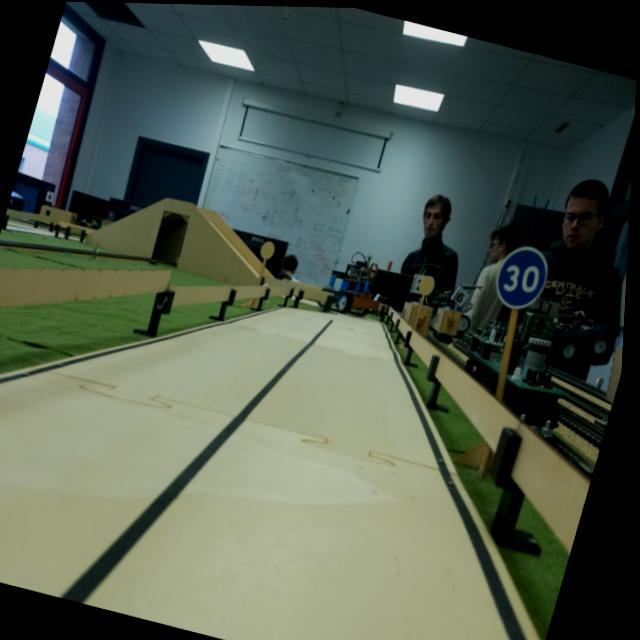obstacle_voiture: (317, 249, 386, 325)
panneau-limitation30: (485, 243, 559, 319)
